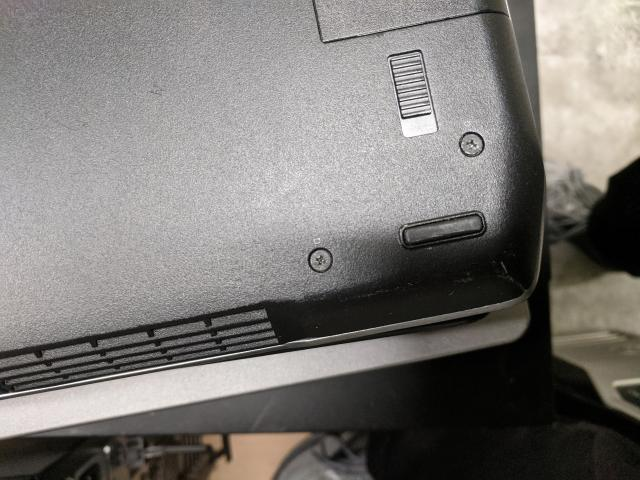CRS: (307, 247, 335, 274), (458, 131, 485, 158)
